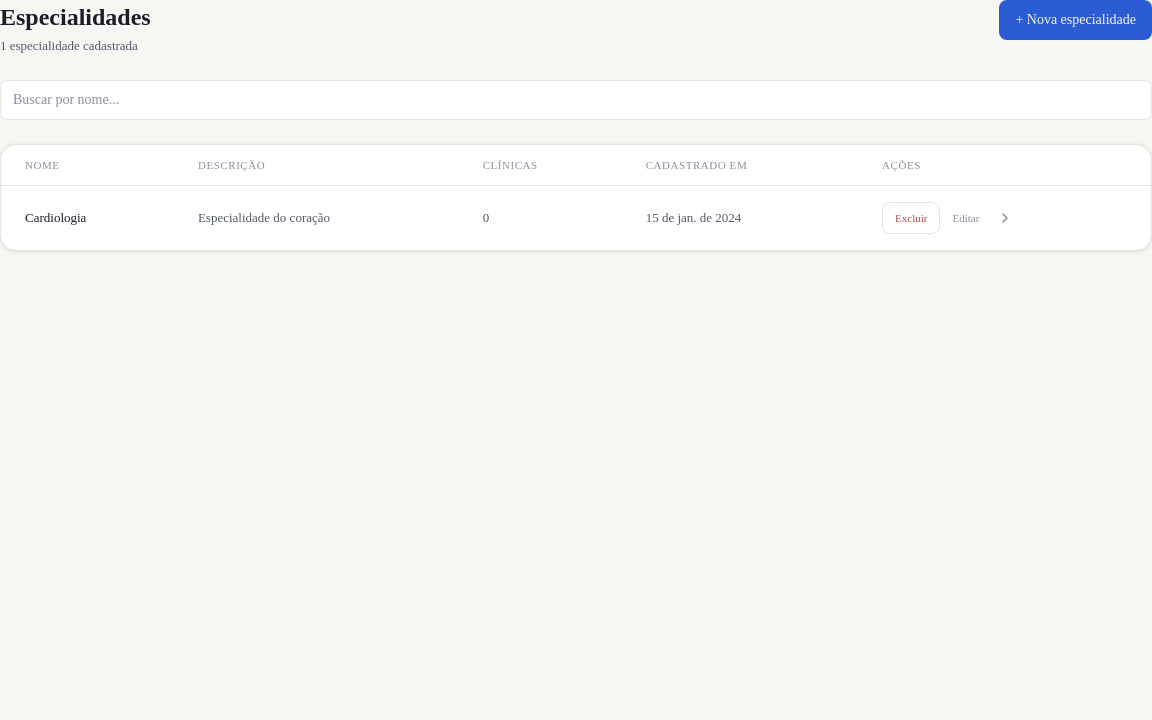
Test: SpecialtyList (integration) › as PLATFORM_ADMIN › closes delete dialog when cancel is clicked
This screenshot has width=1152, height=720.
Expected: the table with test id "specialty-list-table" is shown, [1,145,1151,250]
Click the button with test id "specialty-delete-button-uuid-1": (911, 218) [882,202,940,234]
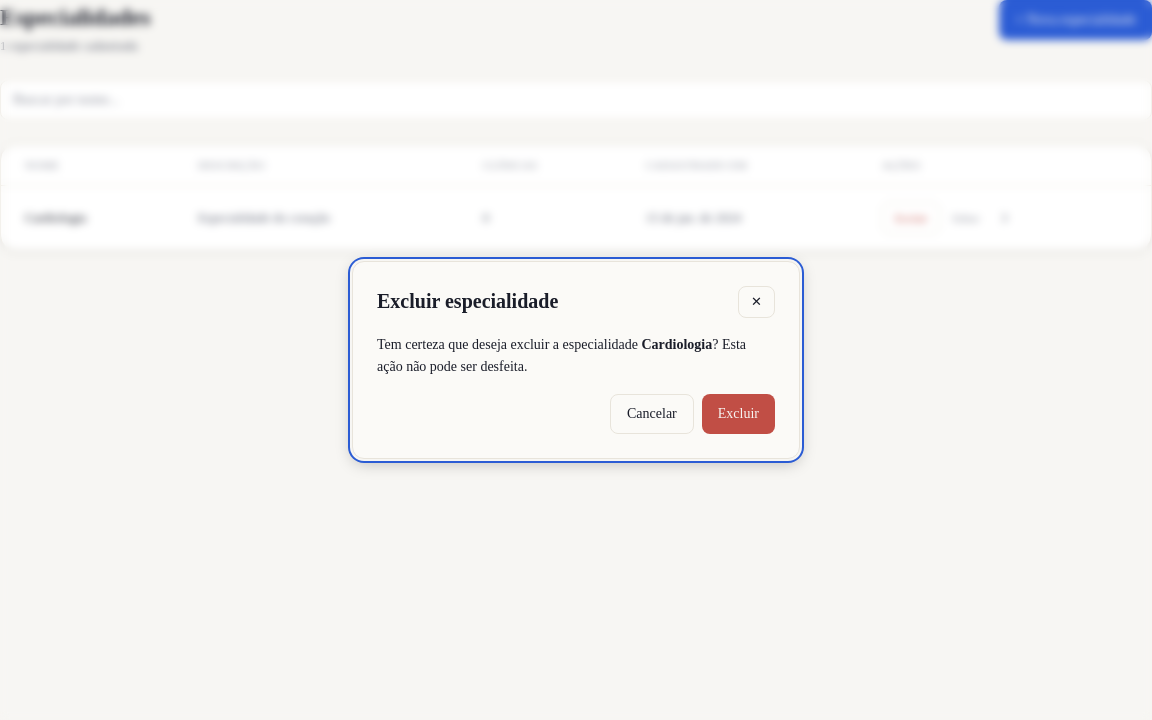
Result: the button with test id "delete-specialty-dialog-cancel" is shown
Click the button with test id "delete-specialty-dialog-cancel": (652, 414) [610,394,694,434]
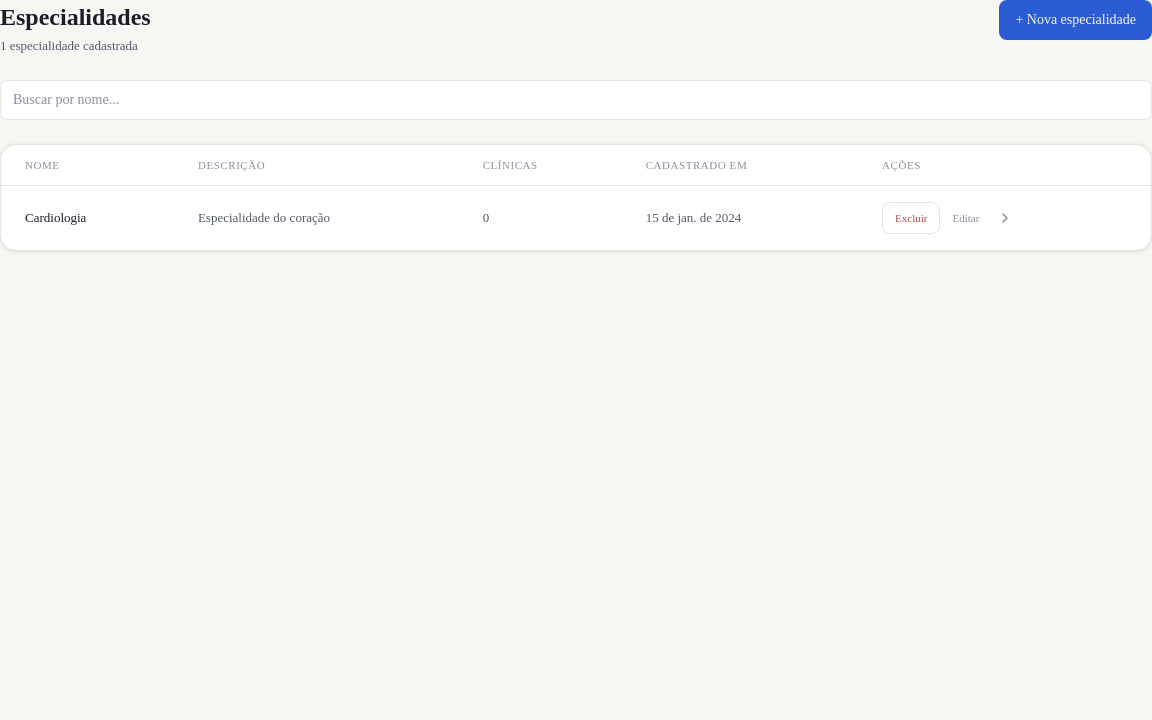
Result: the button with test id "delete-specialty-dialog-cancel" is gone
